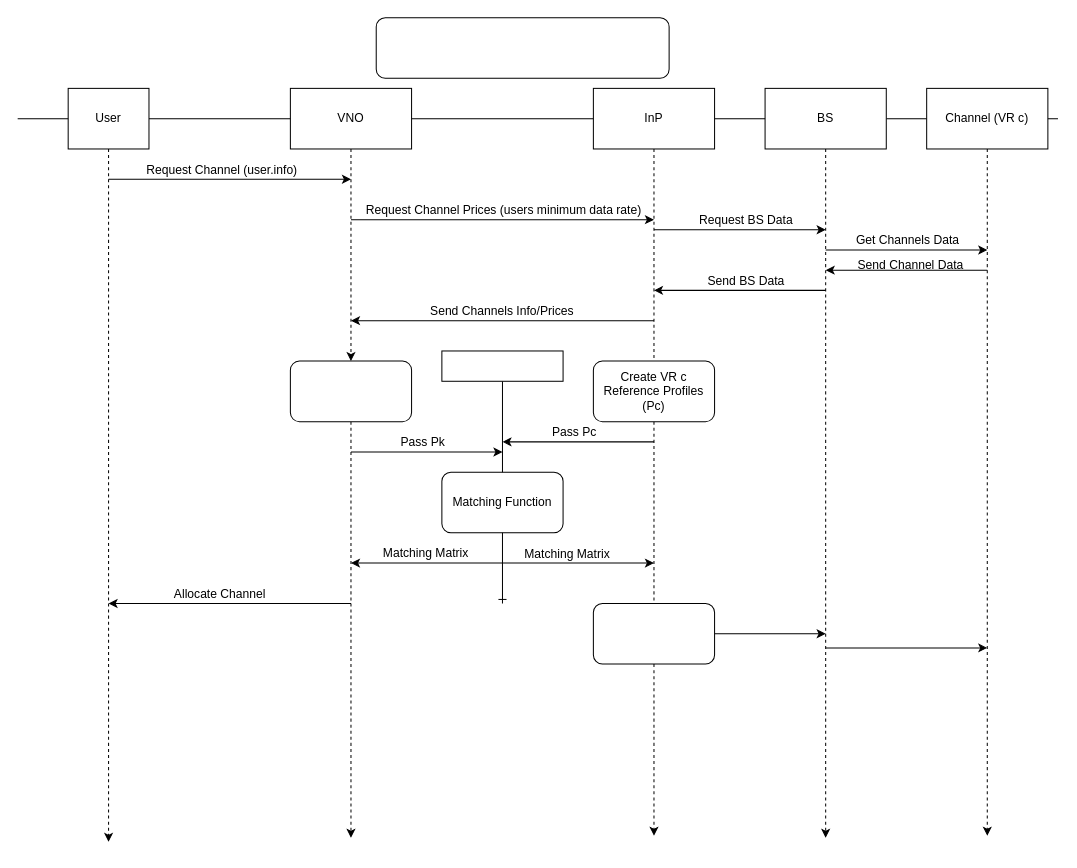
Image size: 1077x868. Some labels were removed from this diagram. The centre of each missing label's shape, as x and y in pixels:
Create user k Reference Profiles (Pk): [350,391]
Matching Algorithm: [502,365]
Network Slicing: Radio Resource Allocation using Matching Game Theory: [522,47]
Update VRs Allocation Policy: [653,633]
